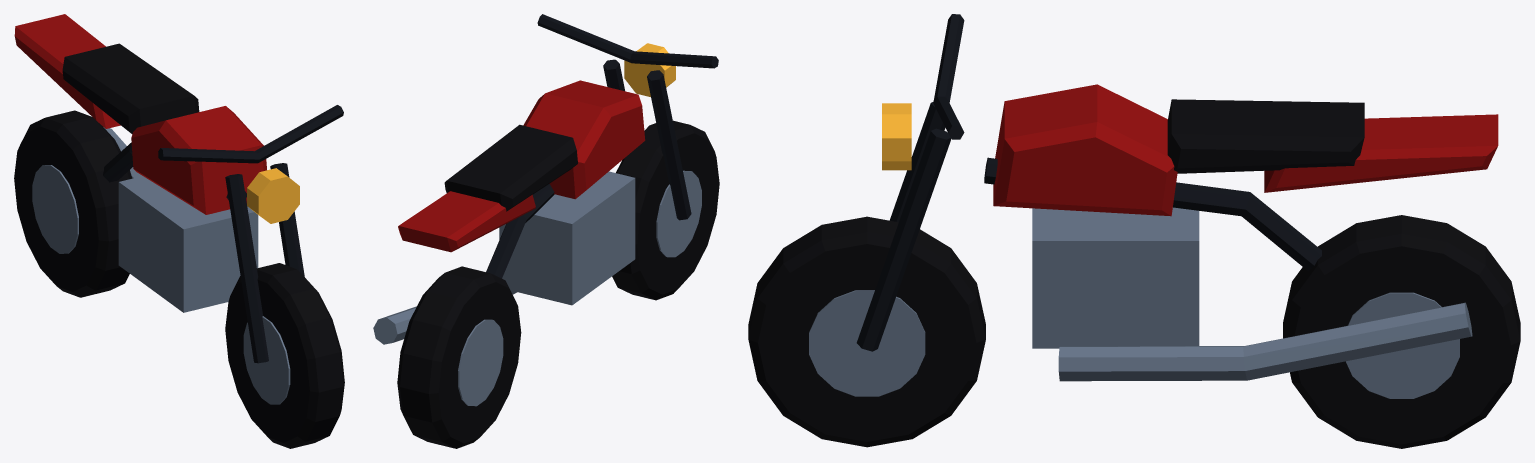
File: pq_motorbike.obj
The picture shows the model from 3 angles, left to right: view 1: azimuth 30°, elevation 25°; view 2: azimuth 150°, elevation 25°; view 3: azimuth 270°, elevation 25°; orthographic projection. The views are drawn at different scales.
Visible parts, largest first — view 1: Motorbike wheels, Motorbike engine, Motorbike tank, Motorbike frame, Motorbike seat, Motorbike wheels_1, Motorbike tail, Motorbike headlight; view 2: Motorbike wheels, Motorbike engine, Motorbike tank, Motorbike frame, Motorbike seat, Motorbike wheels_1, Motorbike tail, Motorbike headlight, Motorbike exhaust; view 3: Motorbike wheels, Motorbike engine, Motorbike tank, Motorbike wheels_1, Motorbike exhaust, Motorbike seat, Motorbike frame, Motorbike tail, Motorbike headlight.
Boxes of the visible parts, x1,y1,x2,y2 form: Motorbike wheels: (14,110,344,448); Motorbike engine: (118,176,258,312); Motorbike tank: (131,106,266,214); Motorbike frame: (103,105,343,363); Motorbike seat: (62,43,199,133); Motorbike wheels_1: (32,165,290,404); Motorbike tail: (14,14,120,128); Motorbike headlight: (247,168,299,223); Motorbike wheels: (397,120,719,448); Motorbike engine: (499,171,635,305); Motorbike tank: (523,80,645,199); Motorbike frame: (486,14,718,278); Motorbike seat: (444,124,577,211); Motorbike wheels_1: (458,170,701,406); Motorbike tail: (398,191,535,252); Motorbike headlight: (624,43,675,96); Motorbike exhaust: (373,290,517,344); Motorbike wheels: (748,215,1520,448); Motorbike engine: (1032,207,1199,348); Motorbike tank: (993,84,1177,216); Motorbike wheels_1: (809,290,1459,398); Motorbike exhaust: (1058,302,1472,381); Motorbike seat: (1167,99,1364,173); Motorbike frame: (856,14,1321,351); Motorbike tail: (1264,114,1498,192); Motorbike headlight: (882,103,911,170).
Bounding box in the file's own units: 0.7306 × 1.1 × 2.08.
